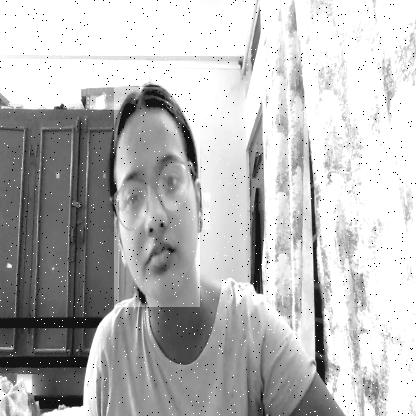Normal: (113, 87, 200, 307)
